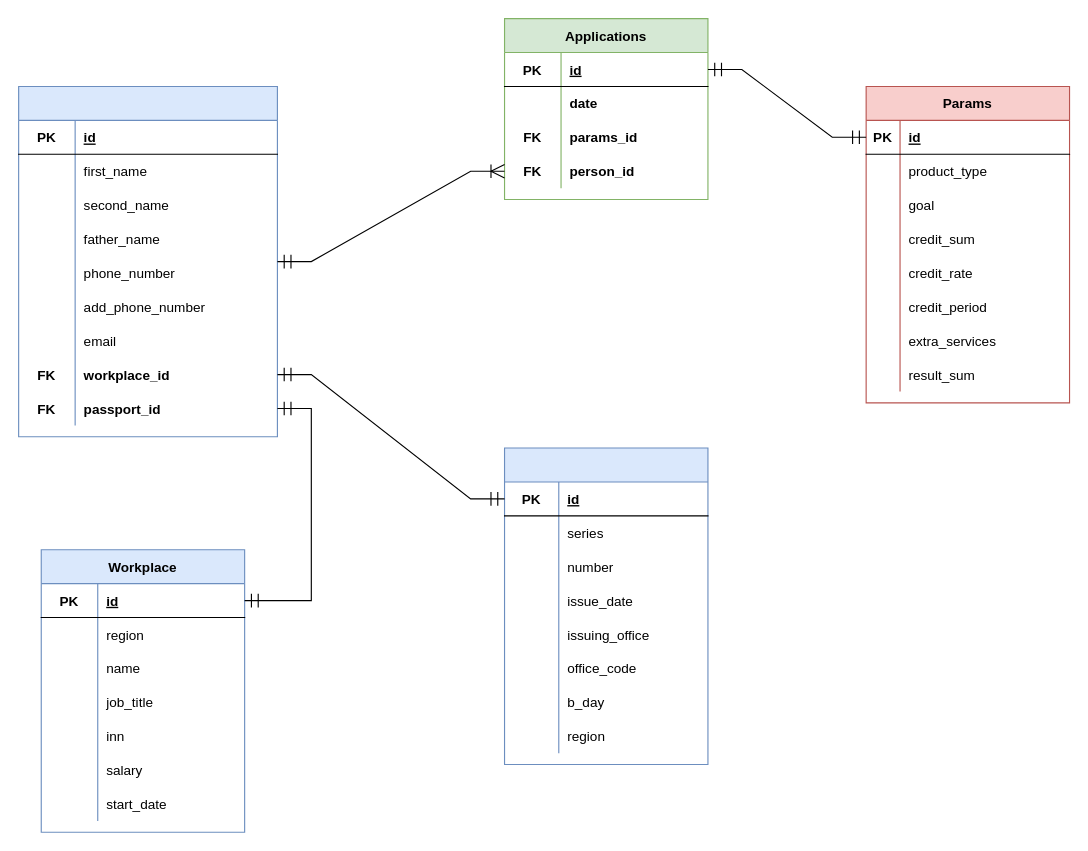
This 1088x851 diagram has some shape labels left out. The box of each missing label's shape, as (x1, y1, x2, y2) in pixels:
Passport: (503, 447, 708, 764)
Person: (18, 85, 277, 437)
